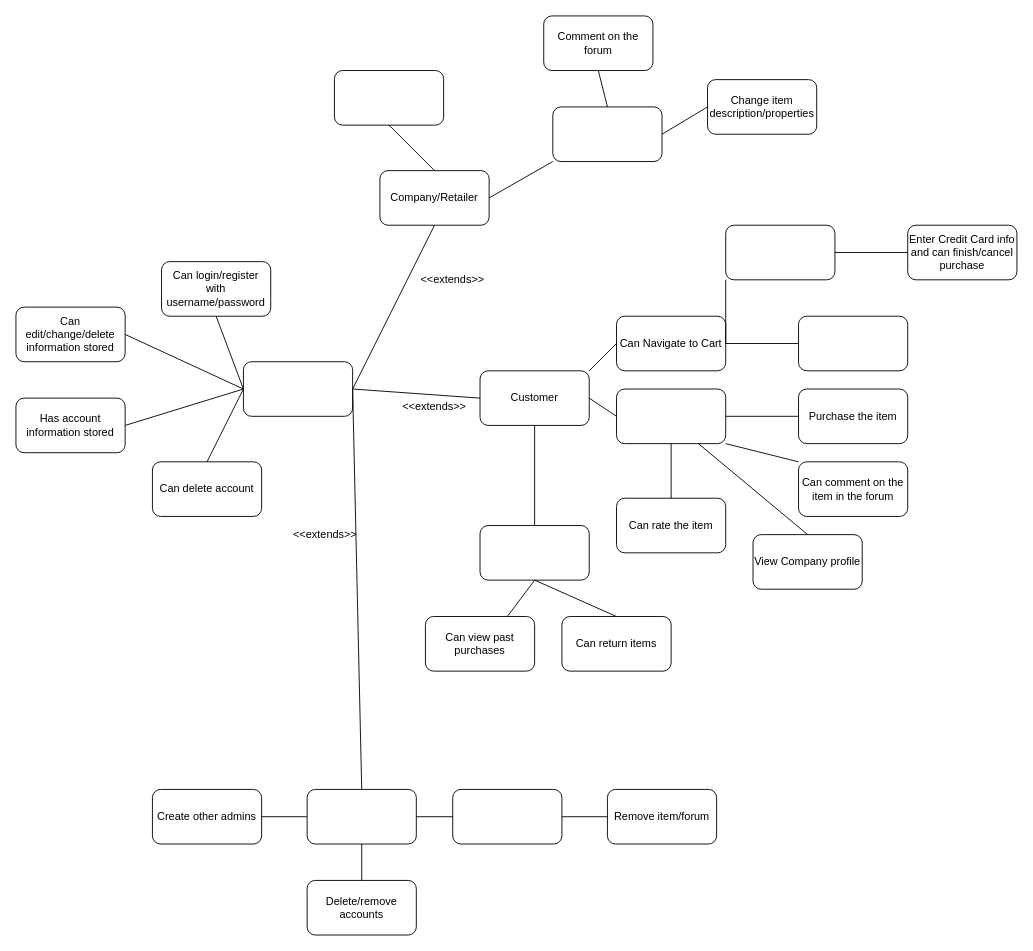
The diagram is 1033 pixels wide and 951 high, and some of its shapes have lost their labels. Here are the shapes that lost their labels. From the top down, the box of each, then its label:
(334, 70, 444, 125): Can add items/forums
(552, 106, 662, 162): View items specifically made by company
(725, 224, 835, 280): Finish Sale
(798, 315, 908, 371): View/remove items in Cart
(243, 361, 353, 416): User
(616, 388, 726, 444): Can go to forums/items
(479, 525, 589, 580): Navigate to Purchased Items
(306, 789, 416, 844): Administrator
(452, 789, 562, 844): View items/forums
